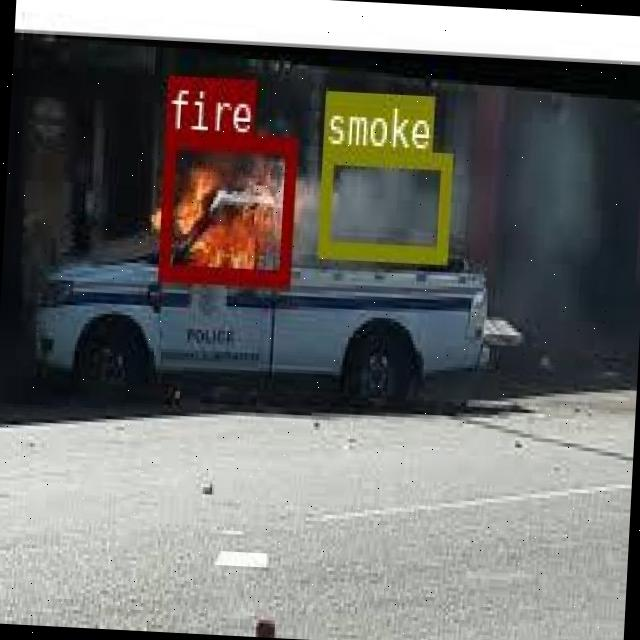fire: (158, 130, 294, 284)
smoke: (316, 144, 450, 260)
